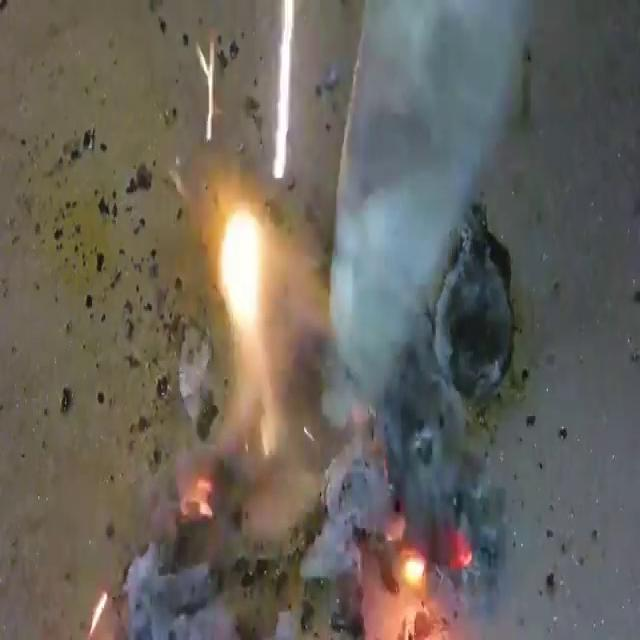Fire: (65, 148, 454, 640)
